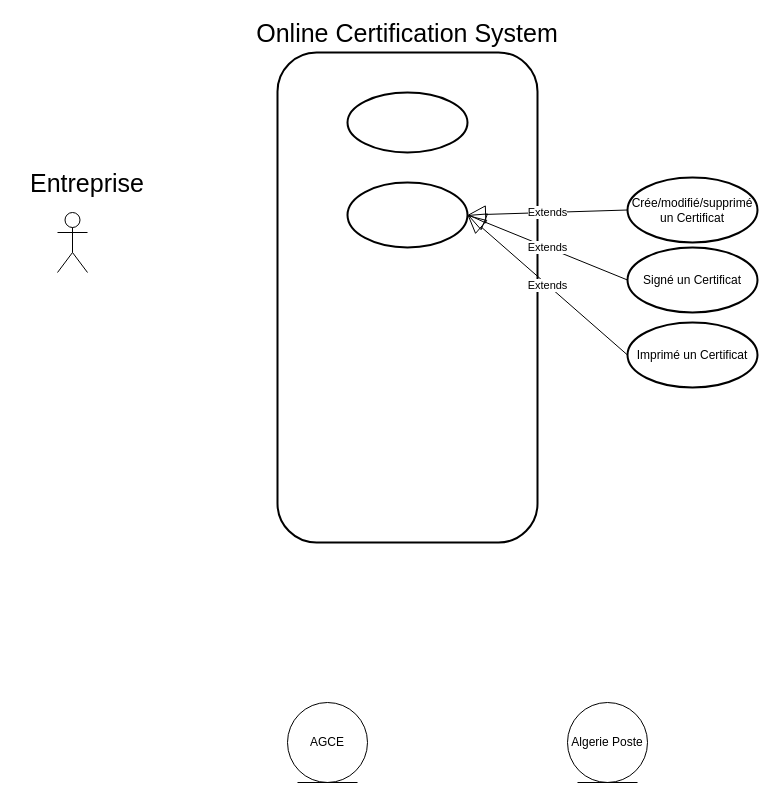
This 775x800 diagram has some shape labels left out. The shapes that lost their labels are listed below. From the top down, each one's centre as x and y in pixels, then its label:
At point (407, 122): "Authentification".
At point (407, 214): "Gérer les Certificats".
At point (72, 242): "Actor".
